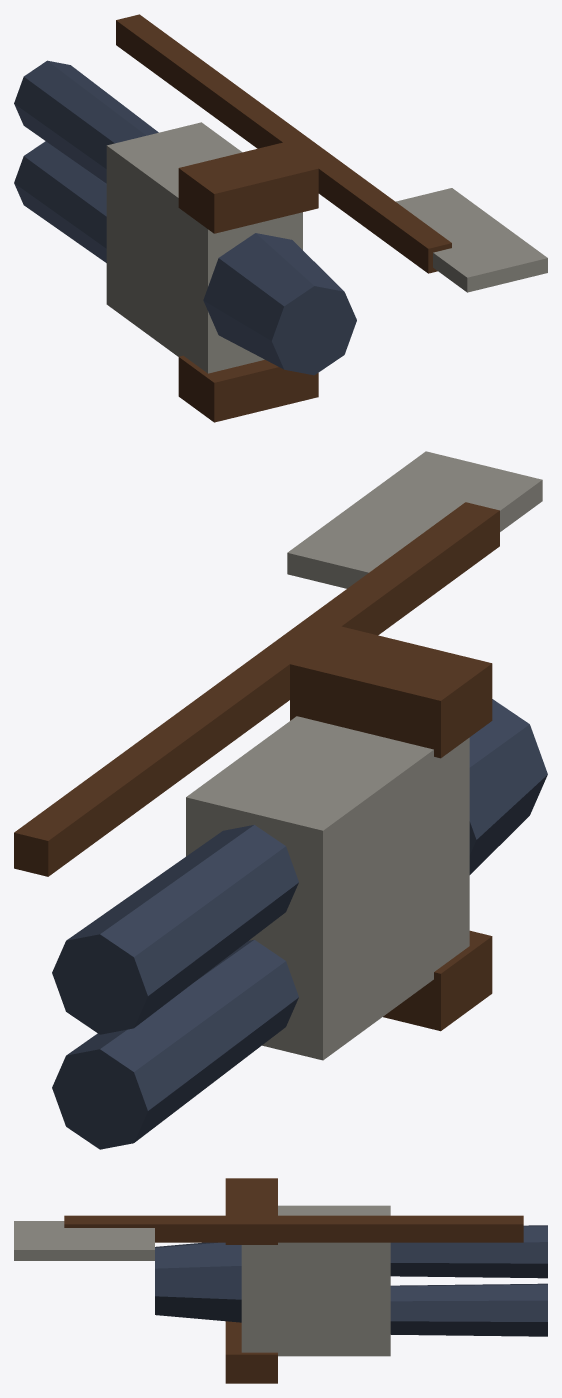
The model's file is SM_UnitHalberdier.obj.
The picture shows the model from 3 angles, top to bottom: view 1: azimuth 30°, elevation 25°; view 2: azimuth 150°, elevation 25°; view 3: azimuth 270°, elevation 25°; orthographic projection. The views are drawn at different scales.
Parts seen in each view (by area): view 1: SM_UnitHalberdier_stone, SM_UnitHalberdier_slate, SM_UnitHalberdier_timber; view 2: SM_UnitHalberdier_stone, SM_UnitHalberdier_slate, SM_UnitHalberdier_timber; view 3: SM_UnitHalberdier_stone, SM_UnitHalberdier_slate, SM_UnitHalberdier_timber.
Boxes of the visible parts, x1,y1,x2,y2 form: SM_UnitHalberdier_stone: (106, 122, 547, 373); SM_UnitHalberdier_slate: (14, 60, 356, 375); SM_UnitHalberdier_timber: (116, 14, 451, 422); SM_UnitHalberdier_stone: (186, 451, 542, 1060); SM_UnitHalberdier_slate: (52, 699, 547, 1149); SM_UnitHalberdier_timber: (14, 502, 499, 1031); SM_UnitHalberdier_stone: (14, 1205, 390, 1356); SM_UnitHalberdier_slate: (155, 1225, 547, 1336); SM_UnitHalberdier_timber: (64, 1178, 523, 1383).
Size of the model in its own units: 80 by 92 by 265.
